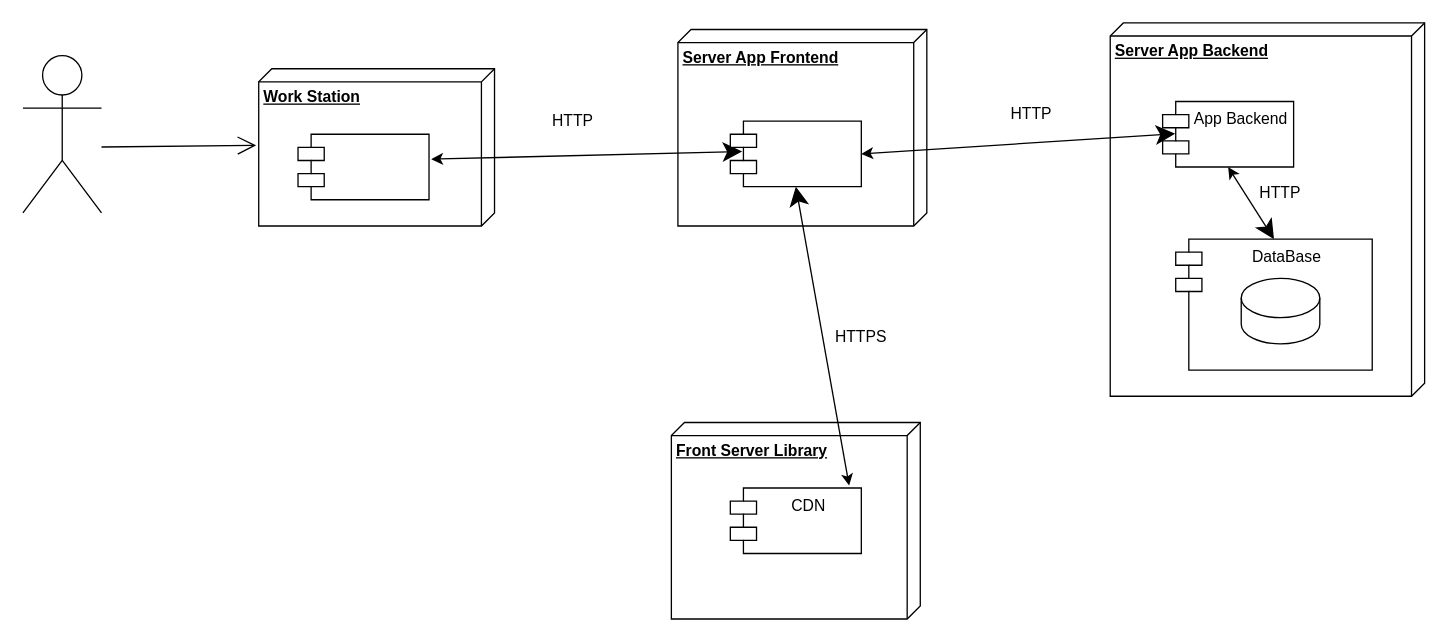
The diagram is 1448 pixels wide and 642 high, and some of its shapes have lost their labels. The centre of each missing label's shape, as x and y in pixels:
App Frontend: (x=795, y=153)
Usuario: (x=62, y=133)
Web broser: (x=363, y=166)
